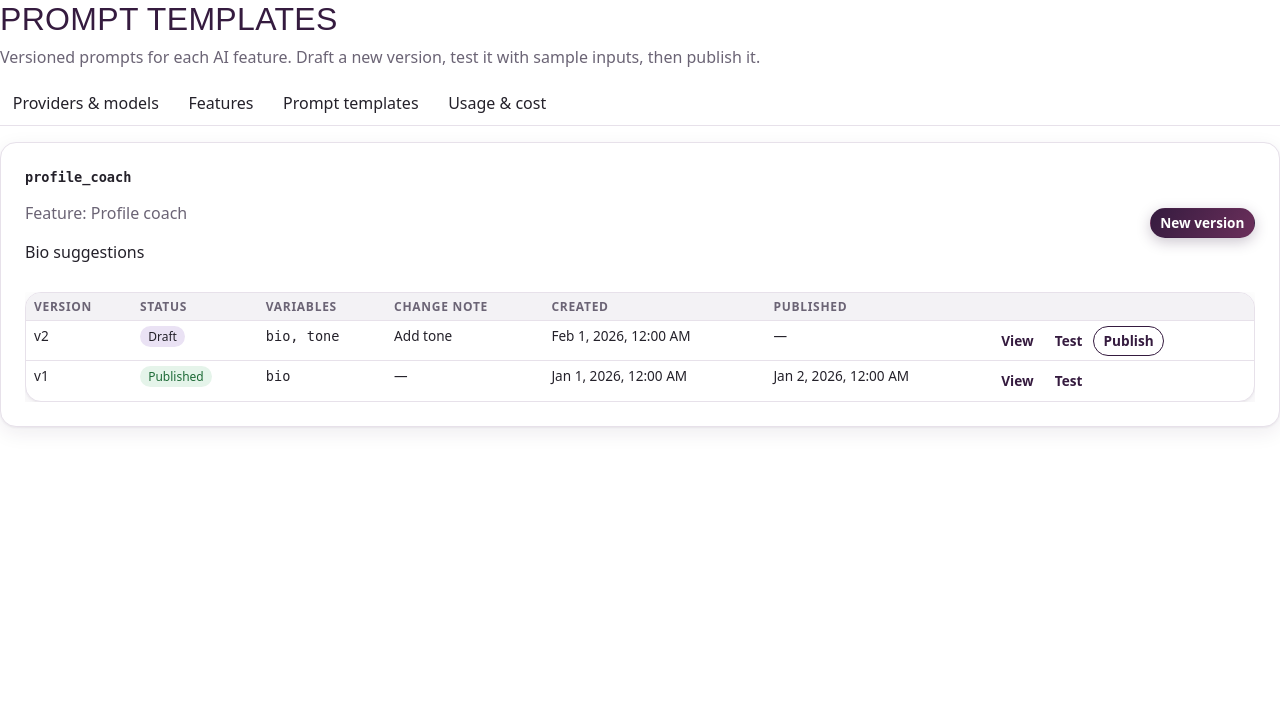
PromptsPage › explains AI_NOT_CONFIGURED on a test run
Click the button "Test" in the row of "v1": (1069, 381) [1044,366,1093,396]
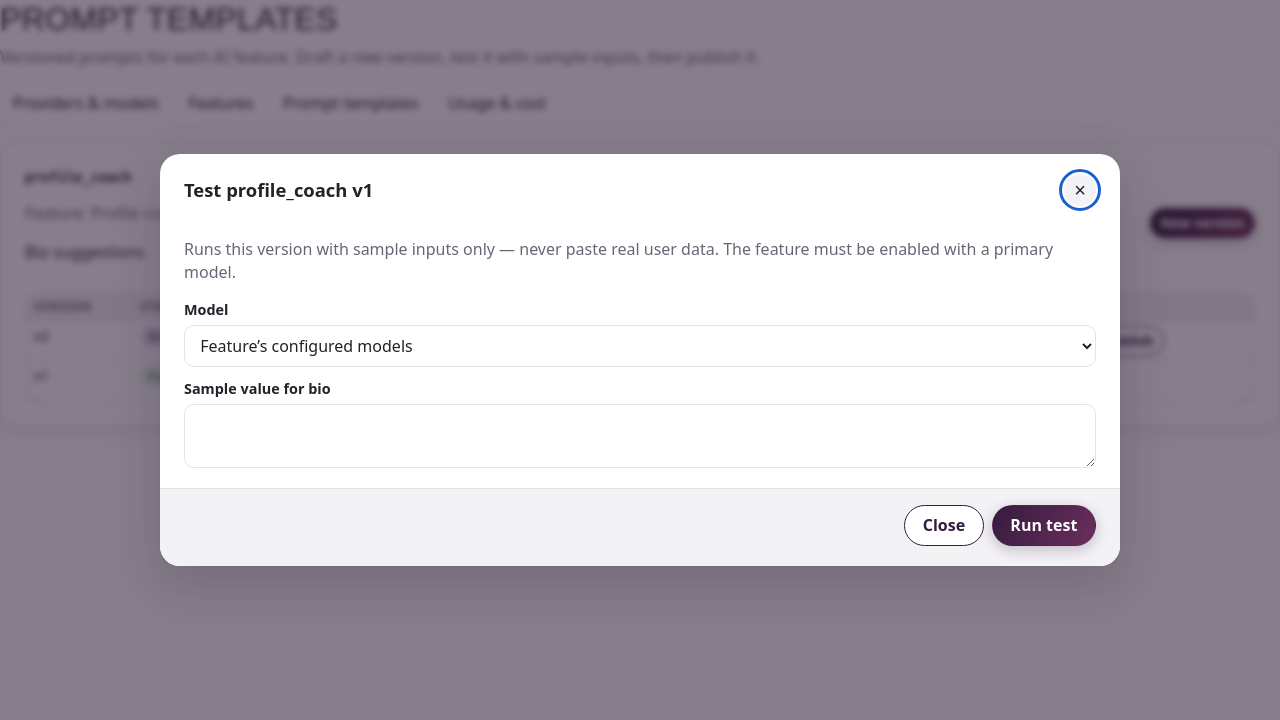
Click the button "Run test": (1044, 526) [992,505,1096,546]
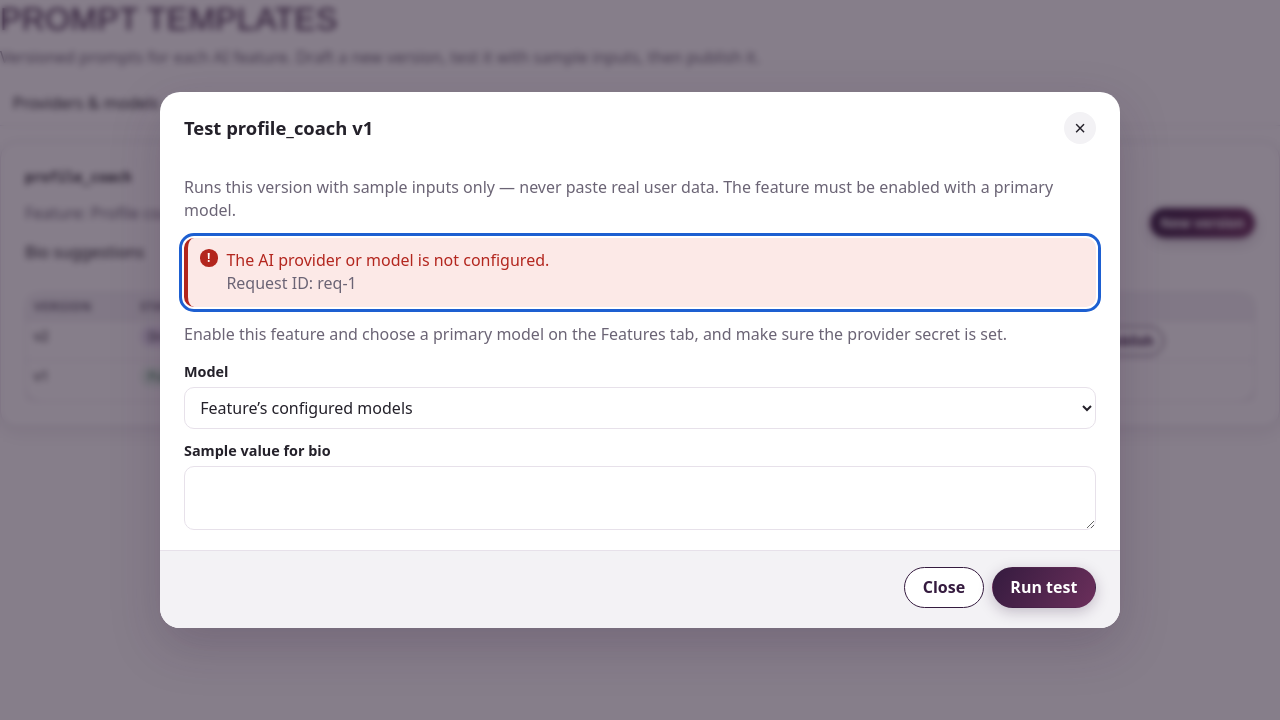
expect the text "The AI provider or model is not configured." is shown: met, box [226,249,549,271]
expect the text "Enable this feature and choose a primary model on the Features tab, and make sure the provider secret is set." is shown: met, box [184,323,1007,345]
